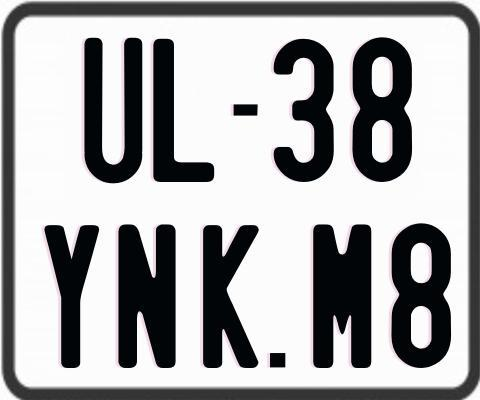3: (271, 38, 337, 184)
8: (389, 222, 451, 370), (350, 37, 411, 186)
K: (201, 222, 258, 370)
L: (151, 39, 215, 188)
M: (310, 221, 371, 369)
N: (116, 224, 177, 371)
U: (83, 36, 146, 184)
Y: (41, 223, 101, 369)
